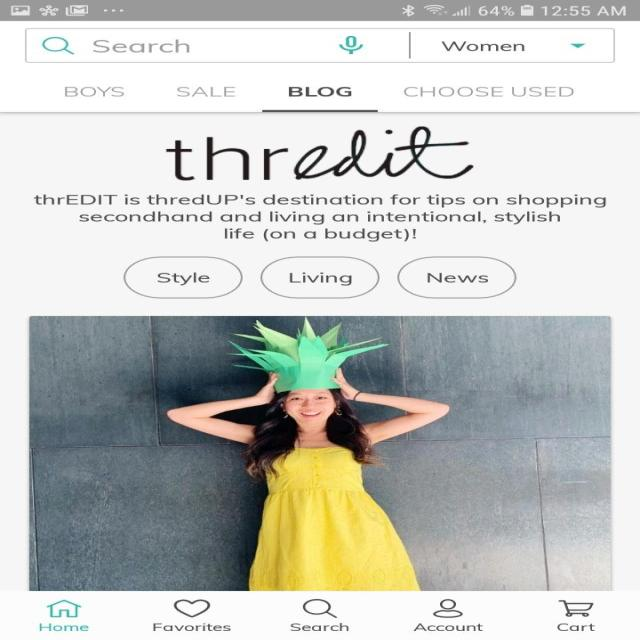EditText: (24, 28, 614, 63)
Icon: (302, 598, 338, 618), (173, 598, 210, 617), (46, 599, 82, 617), (557, 599, 593, 616), (42, 37, 74, 55), (432, 598, 462, 617), (338, 36, 364, 55), (569, 43, 585, 48)
Image: (28, 316, 610, 590), (164, 125, 474, 180)
Text: (32, 194, 606, 242), (402, 86, 574, 96), (94, 40, 190, 52), (440, 41, 524, 51), (152, 622, 231, 631), (64, 86, 124, 97), (289, 86, 352, 96), (177, 86, 236, 96), (412, 623, 482, 631), (290, 622, 348, 631), (39, 623, 89, 631), (556, 623, 594, 631)
TextButton: (122, 256, 242, 299), (260, 256, 380, 299), (396, 256, 516, 299)
